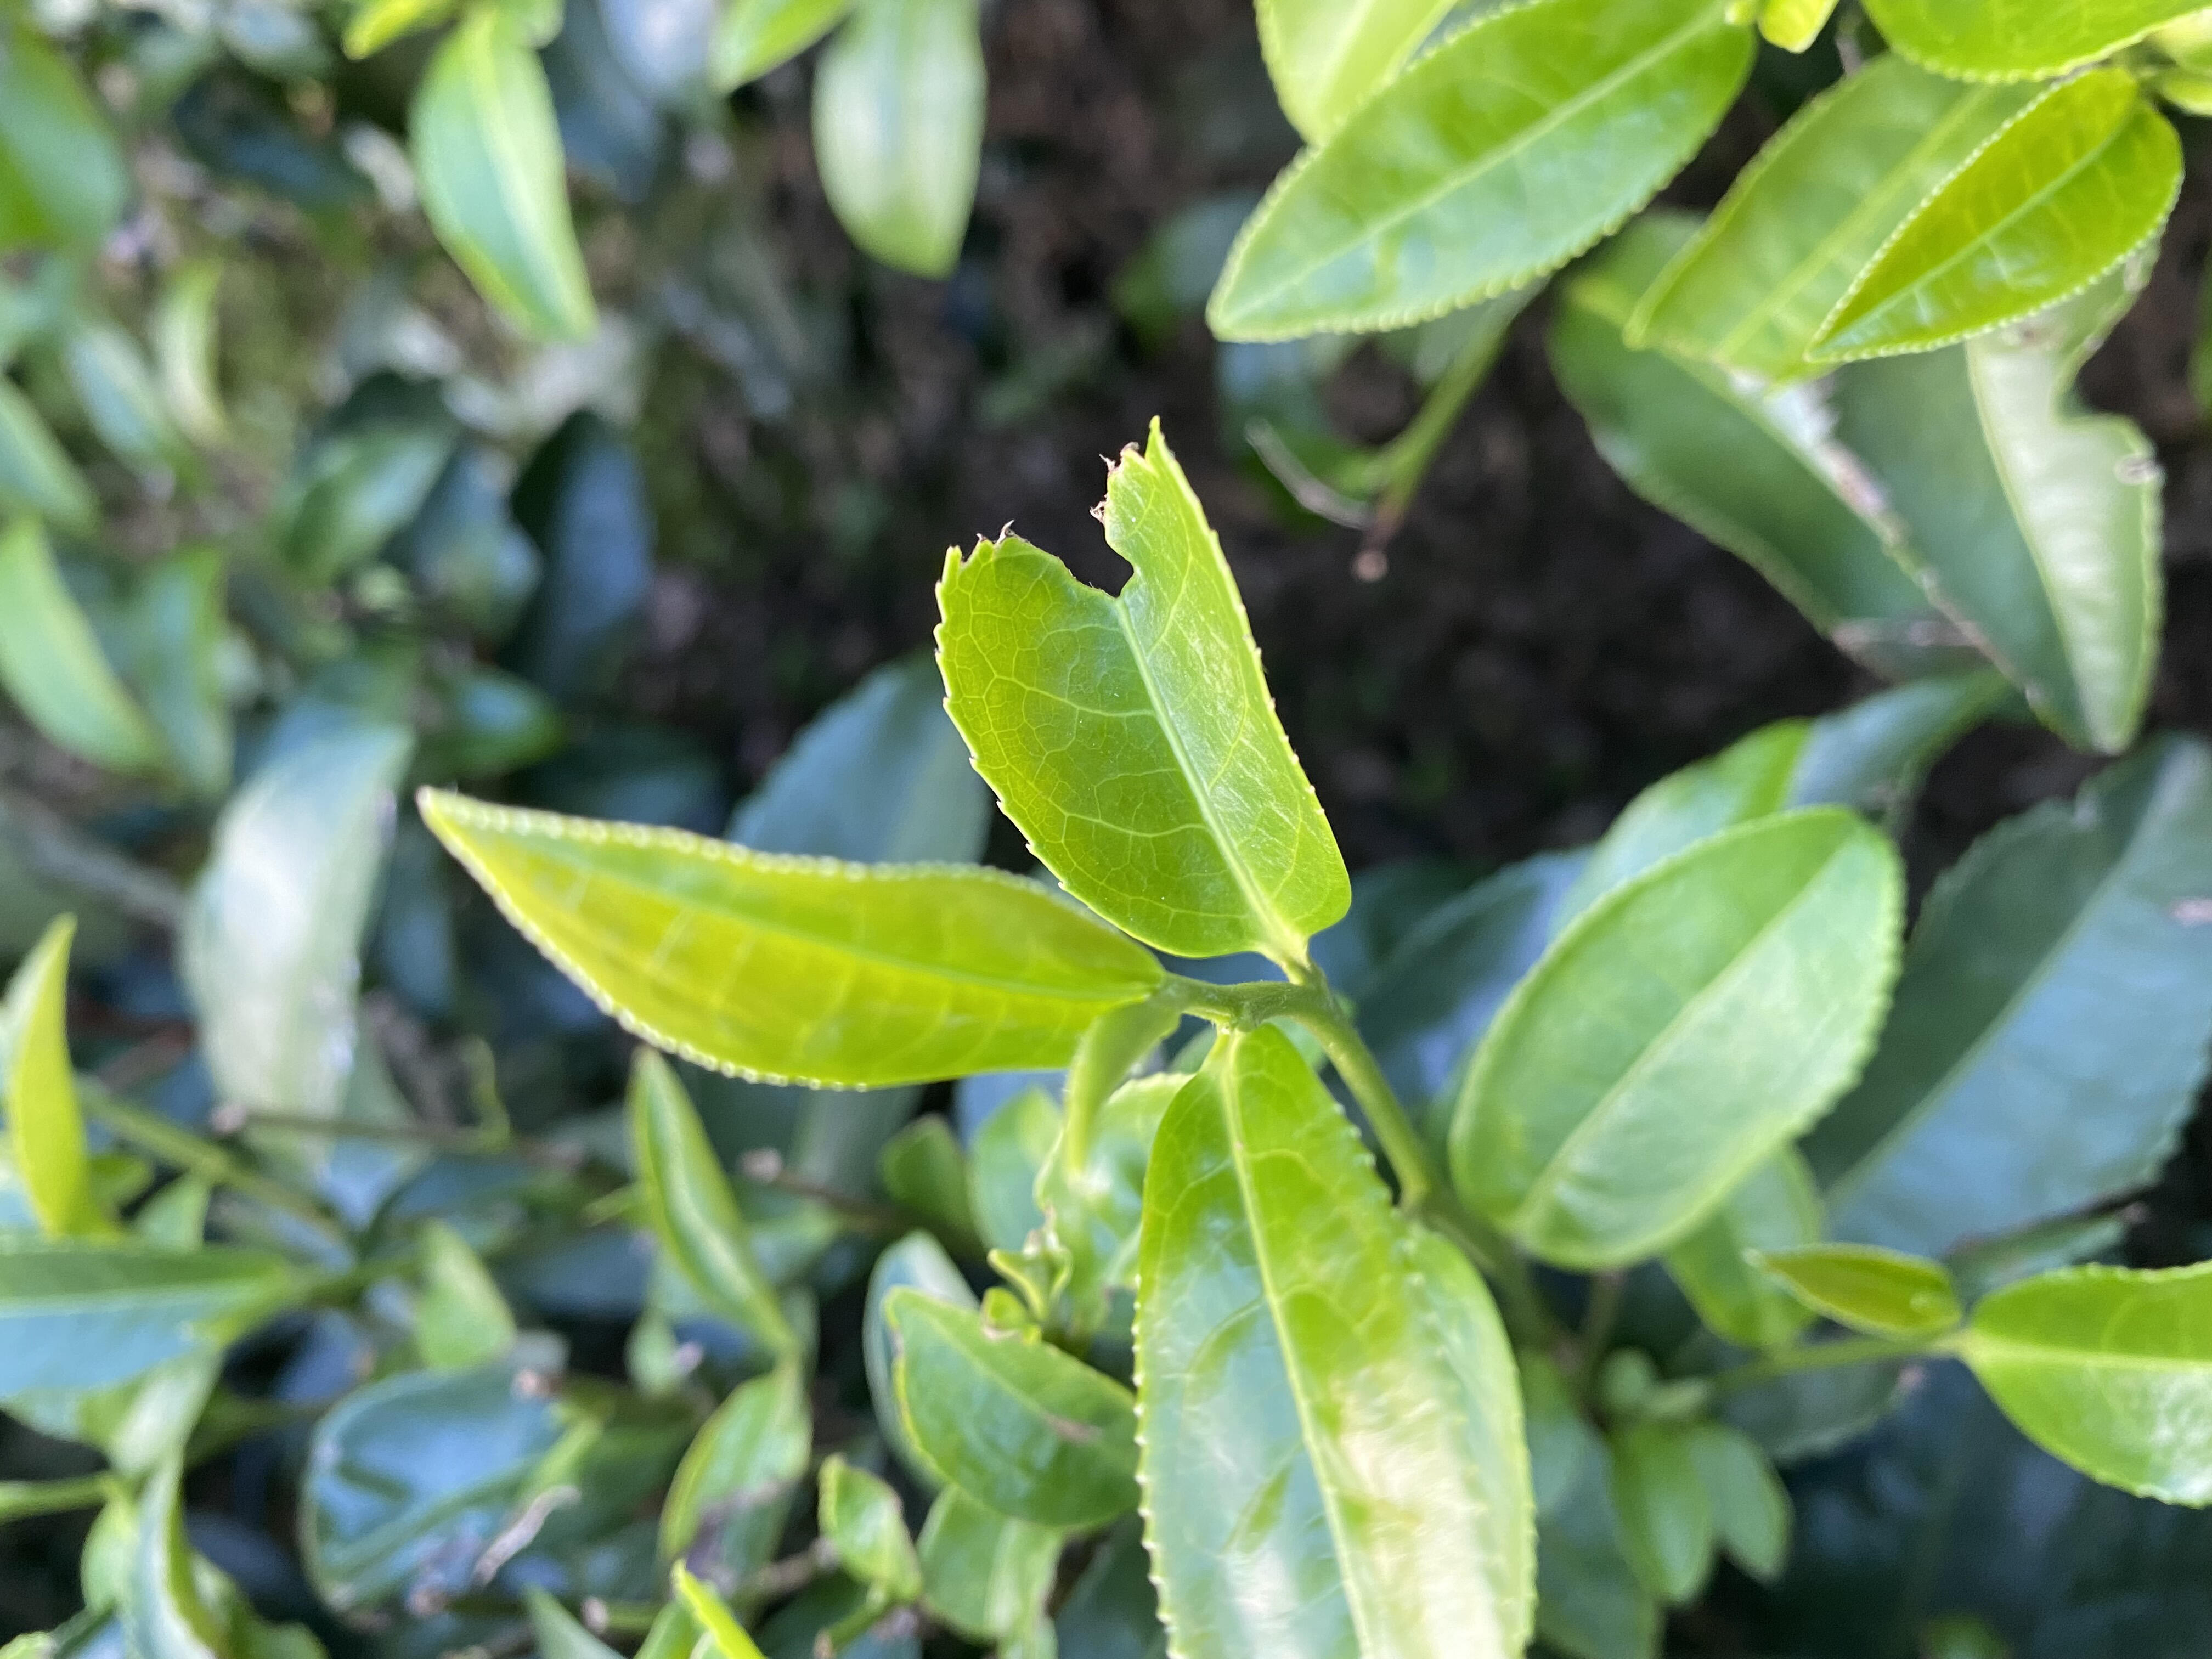chihuo_high: (928, 411, 1355, 957)
healthy: (1127, 1025, 1515, 1659), (411, 782, 1162, 1093), (1205, 3, 1759, 345), (1806, 63, 2184, 357)
